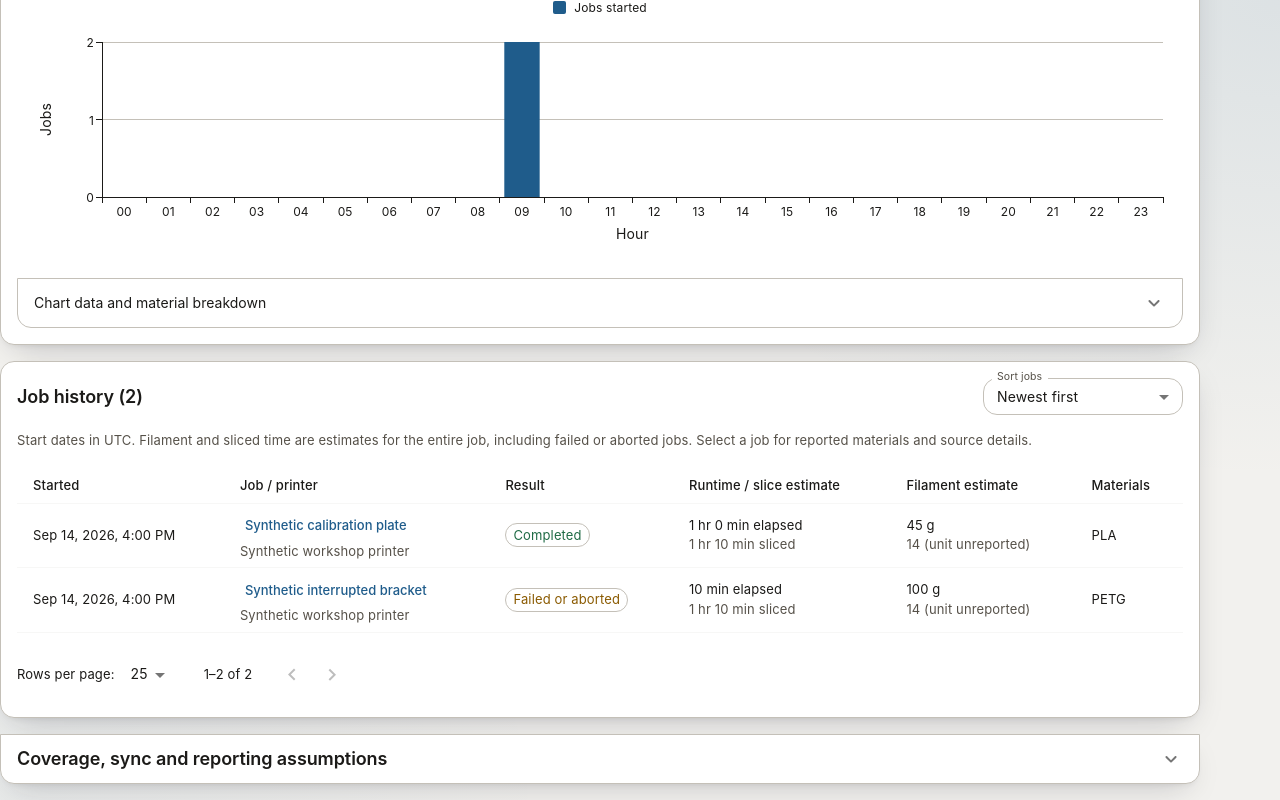
Test: deep-linked Admin tab is discoverable and renders live metrics, real charts and recorded job detail
The image size is (1280, 800).
(page scrolled)
Expected: the heading "Job history (2)" is shown, [17,386,143,407]
Click the button "Synthetic calibration plate" at (326, 526), box [240,510,412,542]
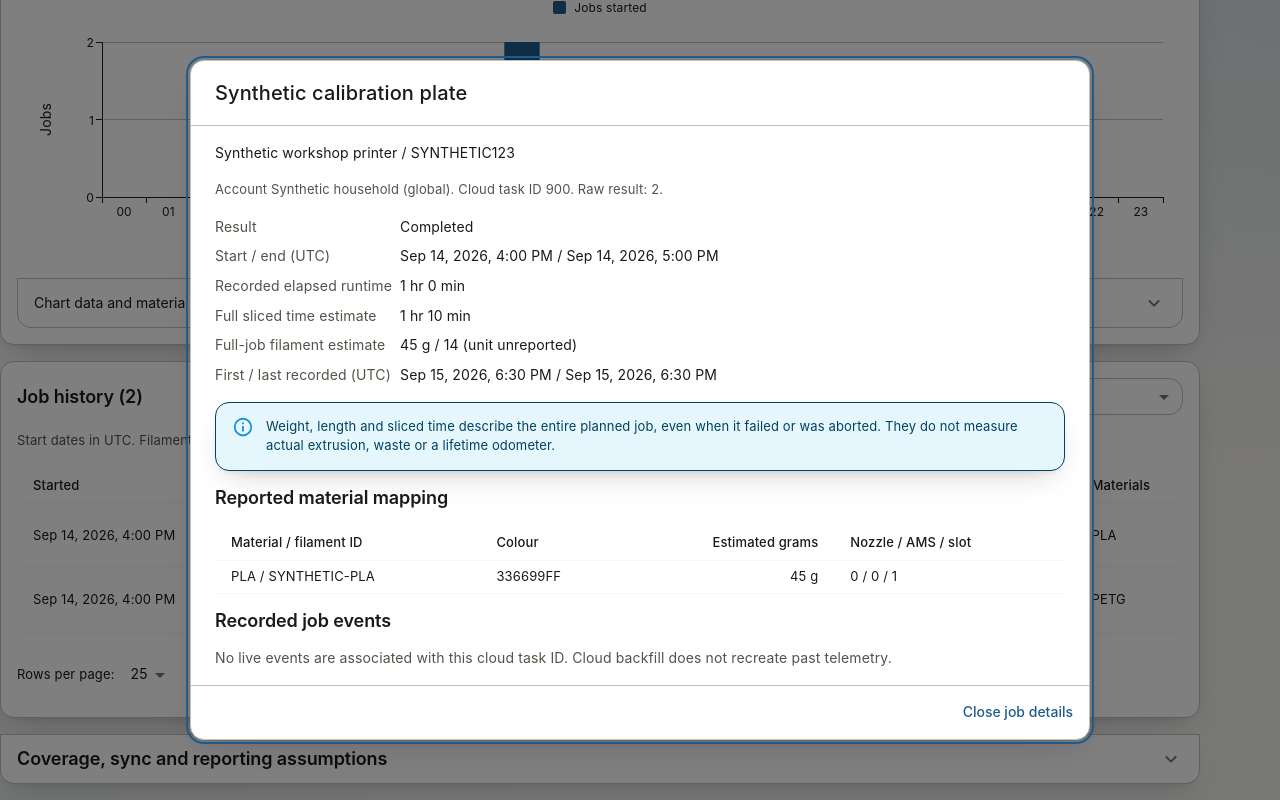
Expected: the heading "Reported material mapping" is shown, [215,487,448,508]
Expected: the text "Raw result: 2" is shown, [215,181,663,197]
Click the button "Close job details" at (1018, 712), box [955,694,1081,731]
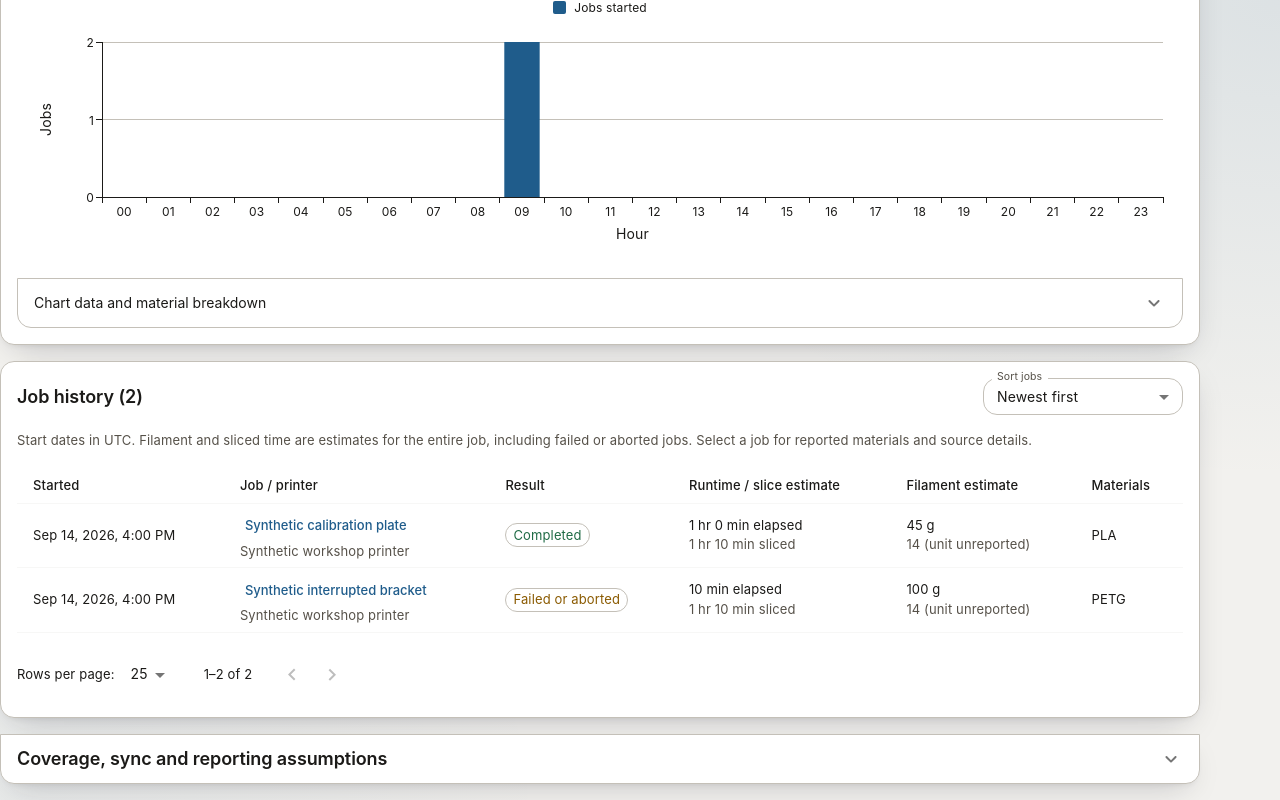
Expected: the dialog is gone
